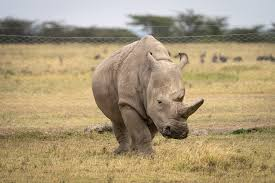Rhinoceros: (88, 28, 208, 157)
